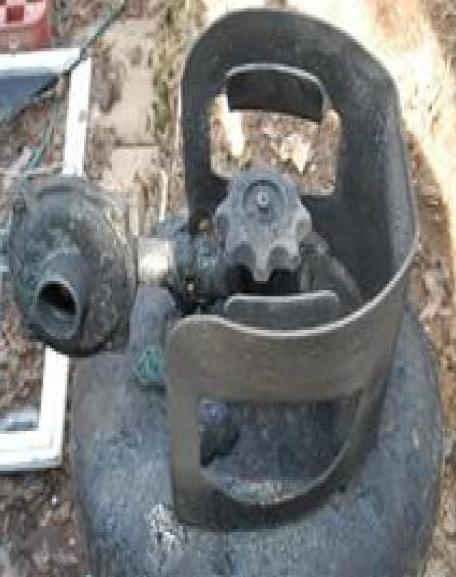cylinder: (1, 1, 456, 577)
